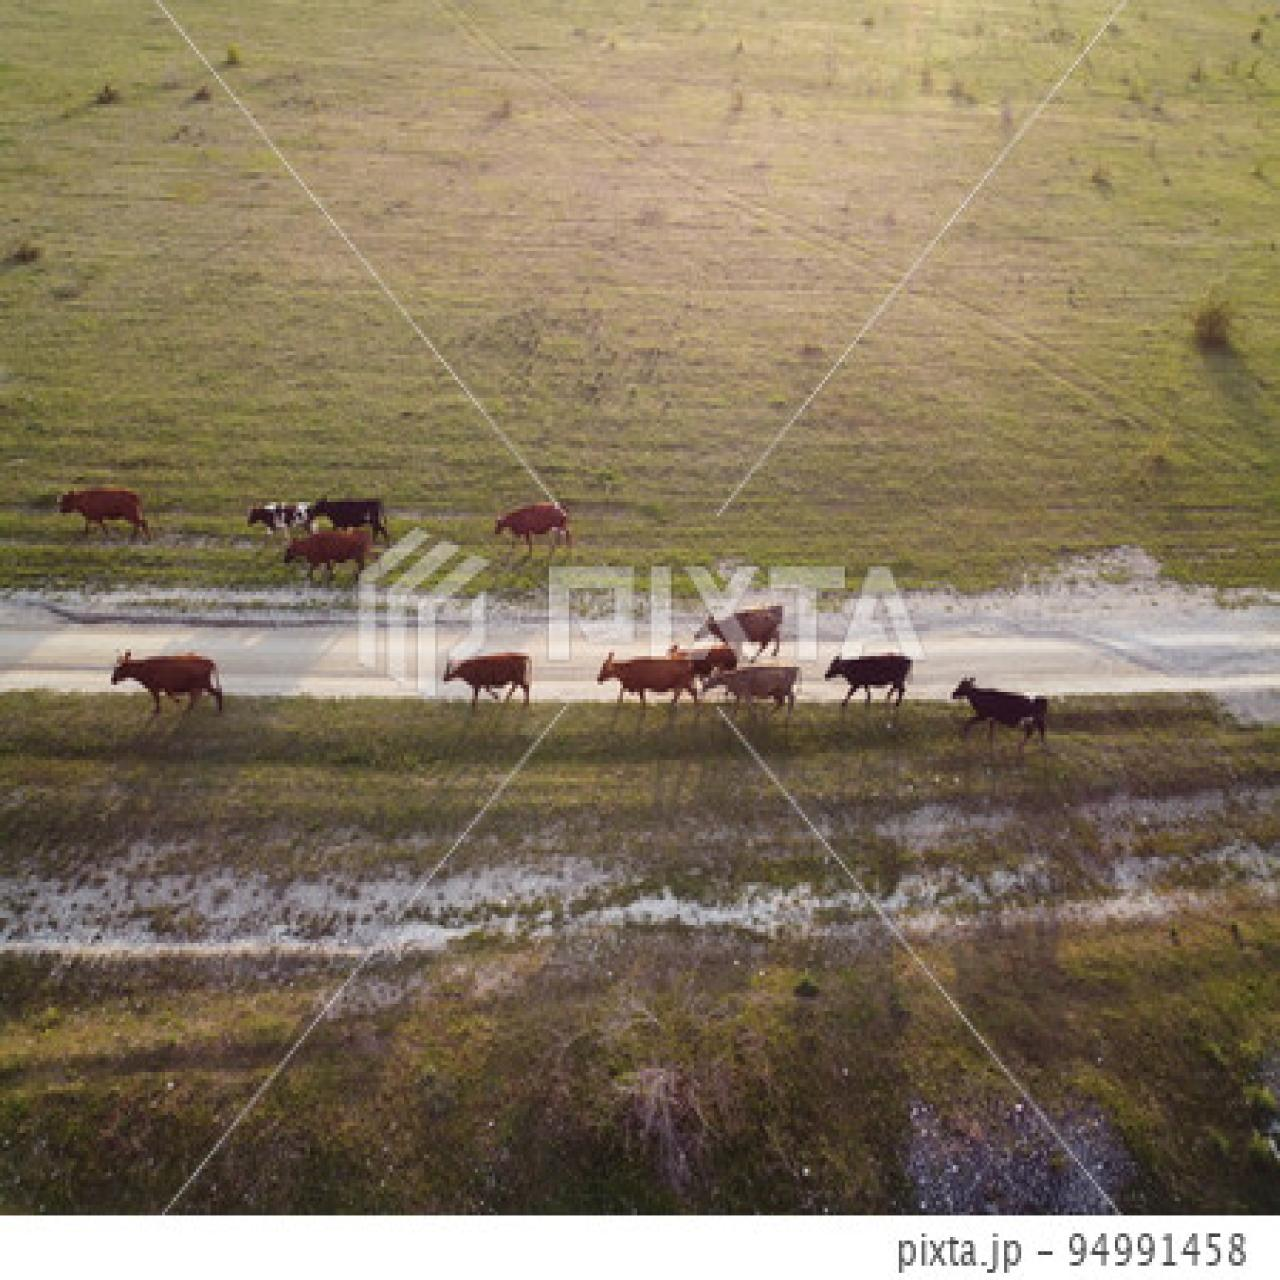cow: (103, 638, 233, 728), (947, 670, 1051, 749), (594, 652, 700, 728), (48, 474, 155, 542), (708, 660, 805, 734), (277, 524, 381, 586), (443, 645, 538, 710), (822, 646, 917, 709), (488, 482, 574, 549), (696, 600, 789, 654), (309, 488, 394, 542), (670, 640, 738, 696)
